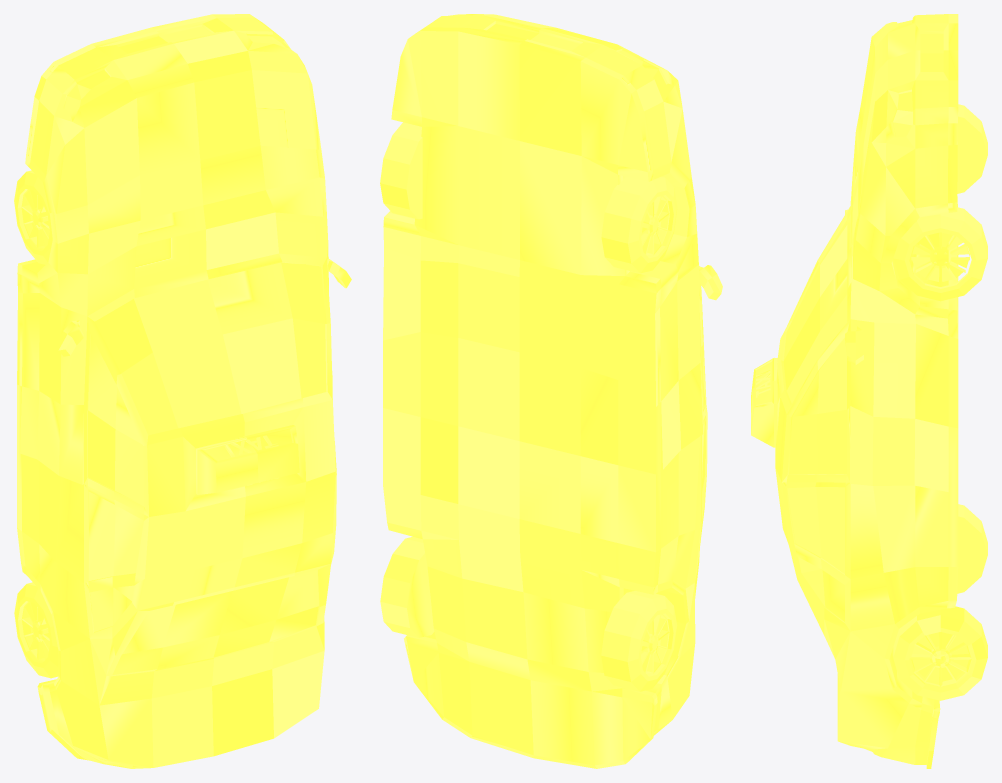
The model's file is Taxi.glb.
The picture shows the model from 3 angles, left to right: view 1: azimuth 30°, elevation 25°; view 2: azimuth 150°, elevation 25°; view 3: azimuth 270°, elevation 25°; orthographic projection. The views are drawn at different scales.
Visible parts, largest first — view 1: Taxi, Taxi_BackWheels, Taxi_FrontLeftWheel; view 2: Taxi, Taxi_BackWheels, Taxi_FrontLeftWheel, Taxi_FrontRightWheel; view 3: Taxi, Taxi_BackWheels, Taxi_FrontRightWheel, Taxi_FrontLeftWheel.
Part boxes in pixels (bbox=[...]): Taxi: bbox=[17, 14, 351, 768]; Taxi_BackWheels: bbox=[14, 582, 58, 678]; Taxi_FrontLeftWheel: bbox=[14, 170, 52, 264]; Taxi: bbox=[383, 14, 722, 768]; Taxi_BackWheels: bbox=[380, 536, 677, 691]; Taxi_FrontLeftWheel: bbox=[601, 176, 677, 273]; Taxi_FrontRightWheel: bbox=[380, 122, 422, 219]; Taxi: bbox=[751, 14, 958, 768]; Taxi_BackWheels: bbox=[893, 504, 987, 700]; Taxi_FrontRightWheel: bbox=[893, 207, 987, 301]; Taxi_FrontLeftWheel: bbox=[957, 104, 987, 193].
Bounding box in the file's own units: 181 × 422 × 131.
